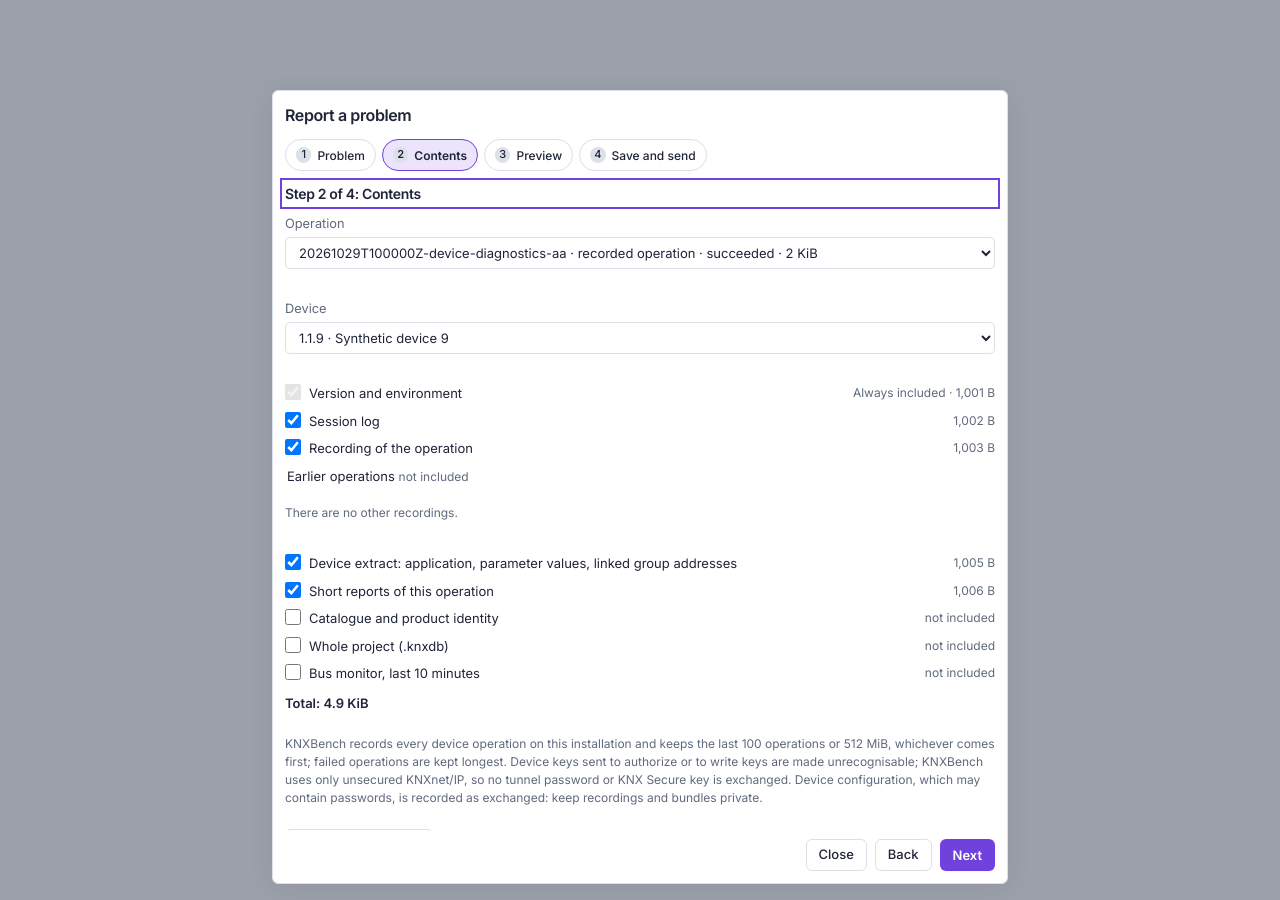
a refused device target › after an ordinary run A, going to B and back to A recovers without the reset
Select "1.1.10 · Synthetic device 10" in the dropdown labelled "Device" at (640, 338), box [285,322,995,354]
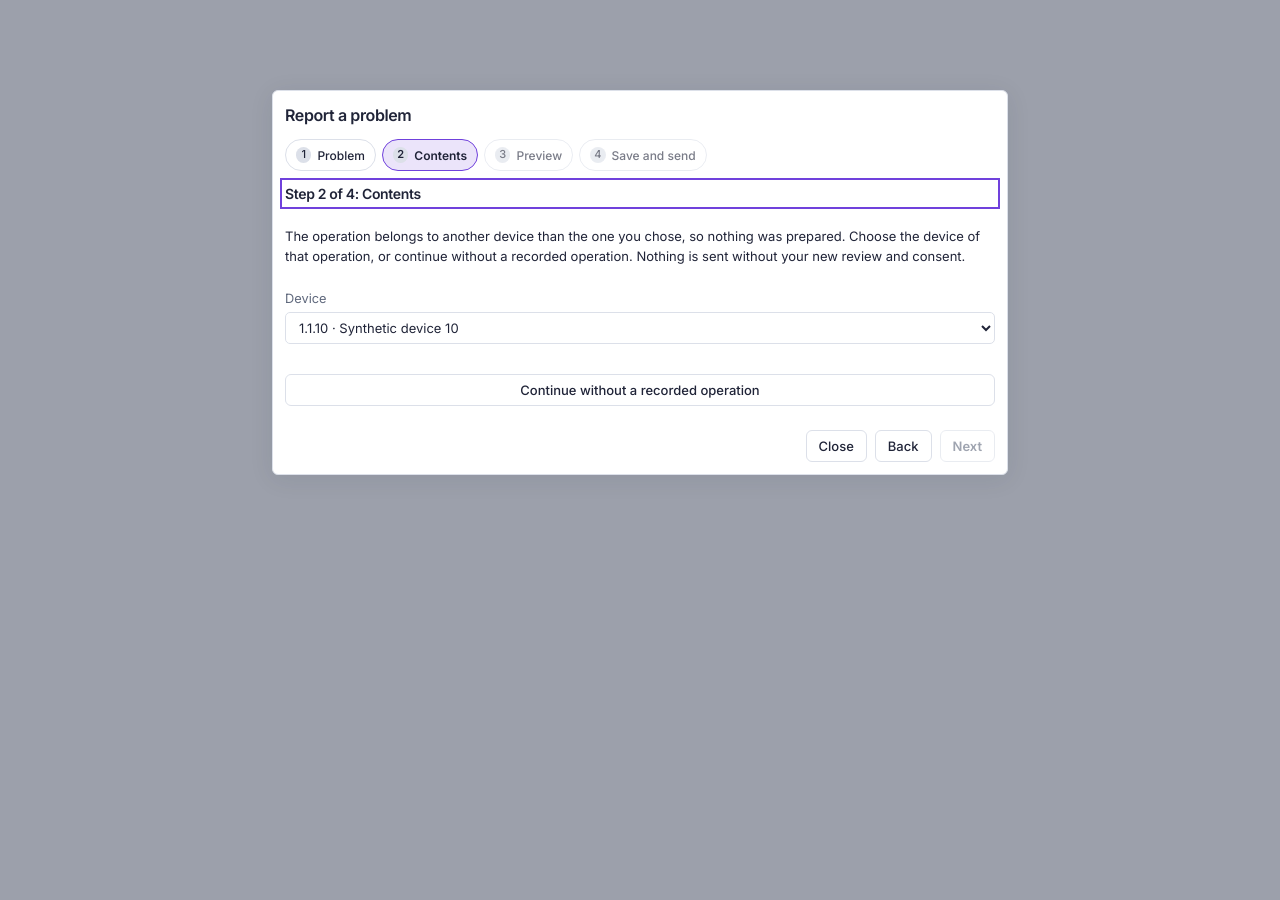
Now the message is shown, box [285,227,995,266]
Now the dropdown labelled "Device" shows "1.1.10 · Synthetic device 10"
Now the button "3 Preview" is disabled, box [484,139,573,171]
Select "1.1.9 · Synthetic device 9" in the dropdown labelled "Device" at (640, 328), box [285,312,995,344]
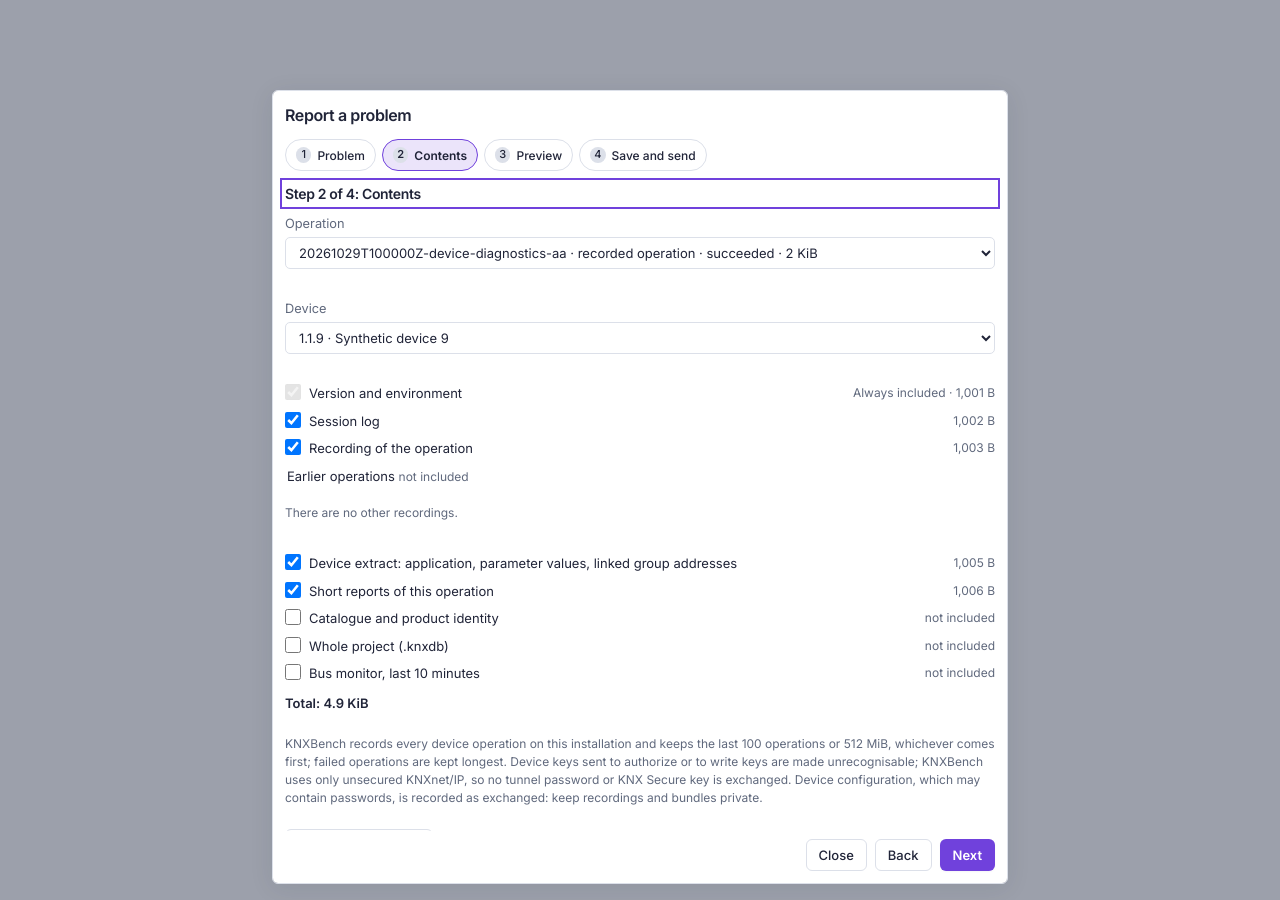
Now the dropdown labelled "Operation" shows "20261029T100000Z-device-diagnostics-aa · recorded operation · succeeded · 2 KiB", box [285,237,995,269]
Now the button "4 Save and send" is enabled, box [579,139,707,171]
